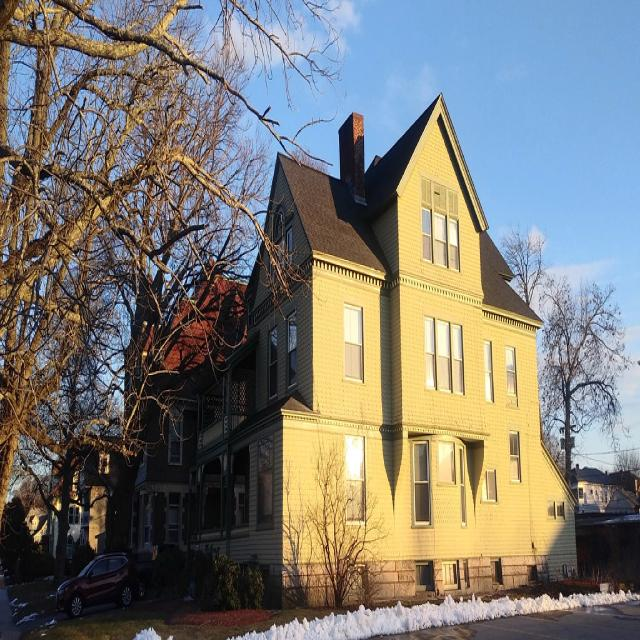building: (123, 89, 586, 602)
